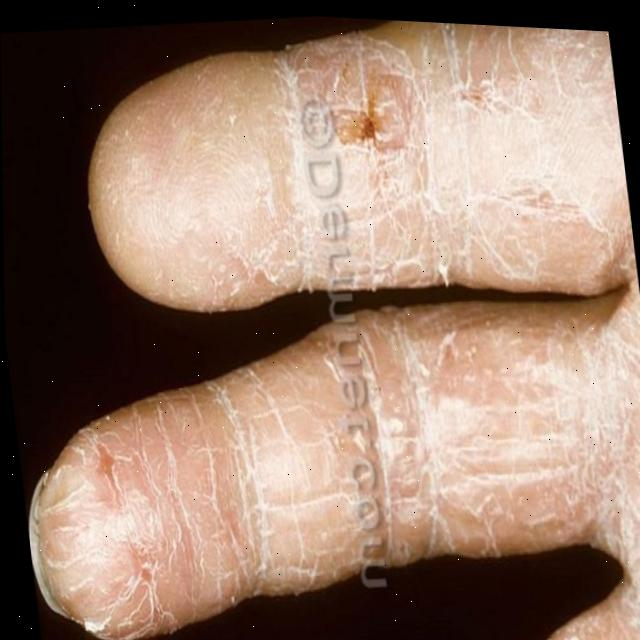Eczema: (26, 280, 640, 640), (247, 20, 636, 297)
